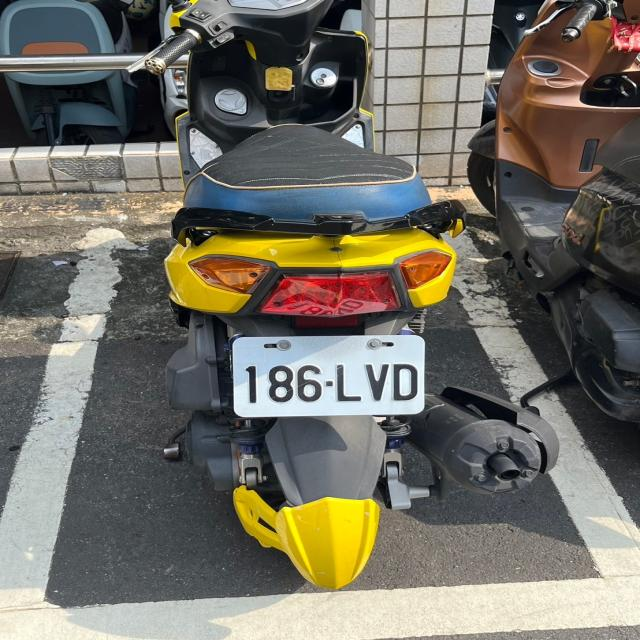license-plate: (237, 339, 427, 417)
